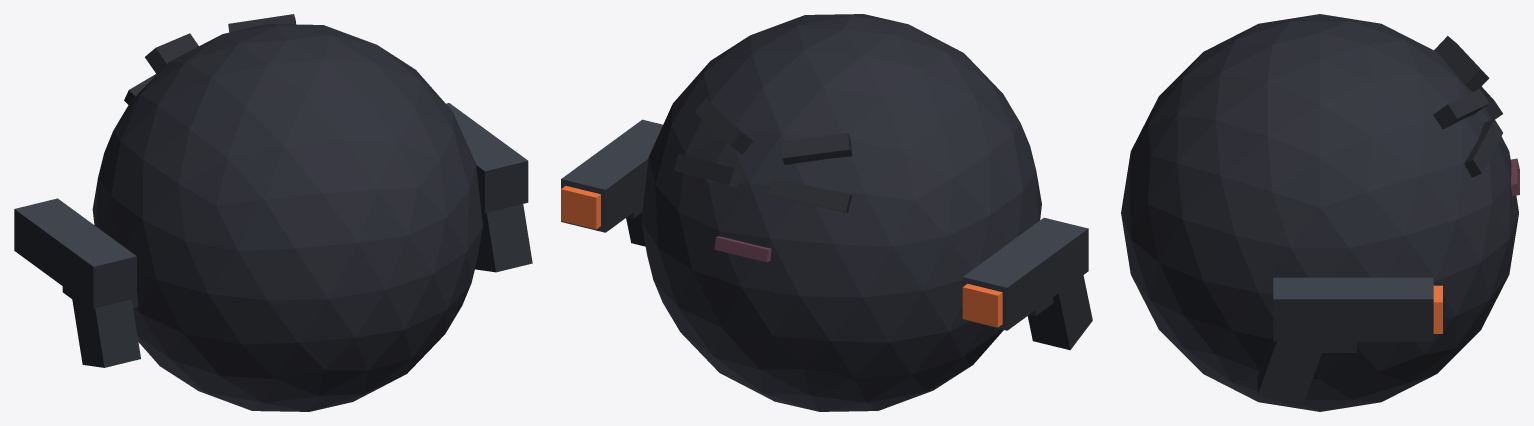
File: CH_Mermo_T3_Blink.fbx
3 views of the same model, side by side, from view 1: azimuth 30°, elevation 25°; view 2: azimuth 150°, elevation 25°; view 3: azimuth 270°, elevation 25° (orthographic). The views are drawn at different scales.
Visible parts, largest first — view 1: CH_Mermo_T3_Blink; view 2: CH_Mermo_T3_Blink; view 3: CH_Mermo_T3_Blink.
Boxes of the visible parts, <box> form: CH_Mermo_T3_Blink: <box>14,14,532,411</box>; CH_Mermo_T3_Blink: <box>561,14,1092,411</box>; CH_Mermo_T3_Blink: <box>1121,14,1519,411</box>.
Size of the model in its own units: 1.28 by 1 by 1.
